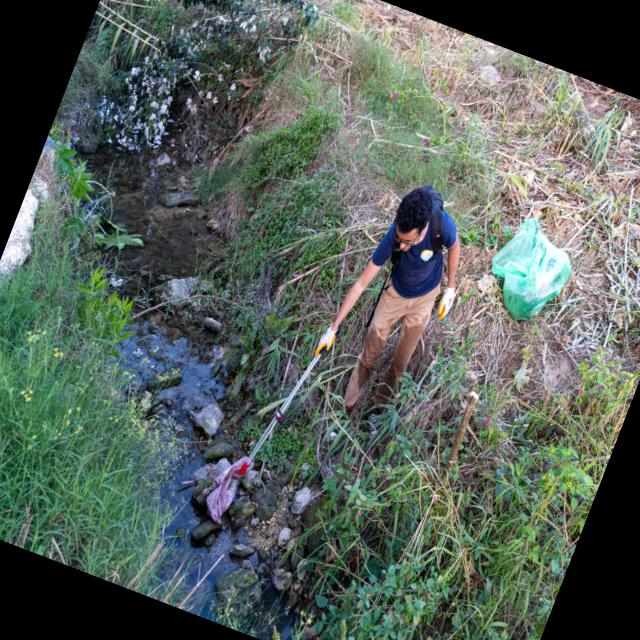Other plastic: (205, 456, 254, 525)
Plastic bag - wrapper: (491, 216, 572, 324)
